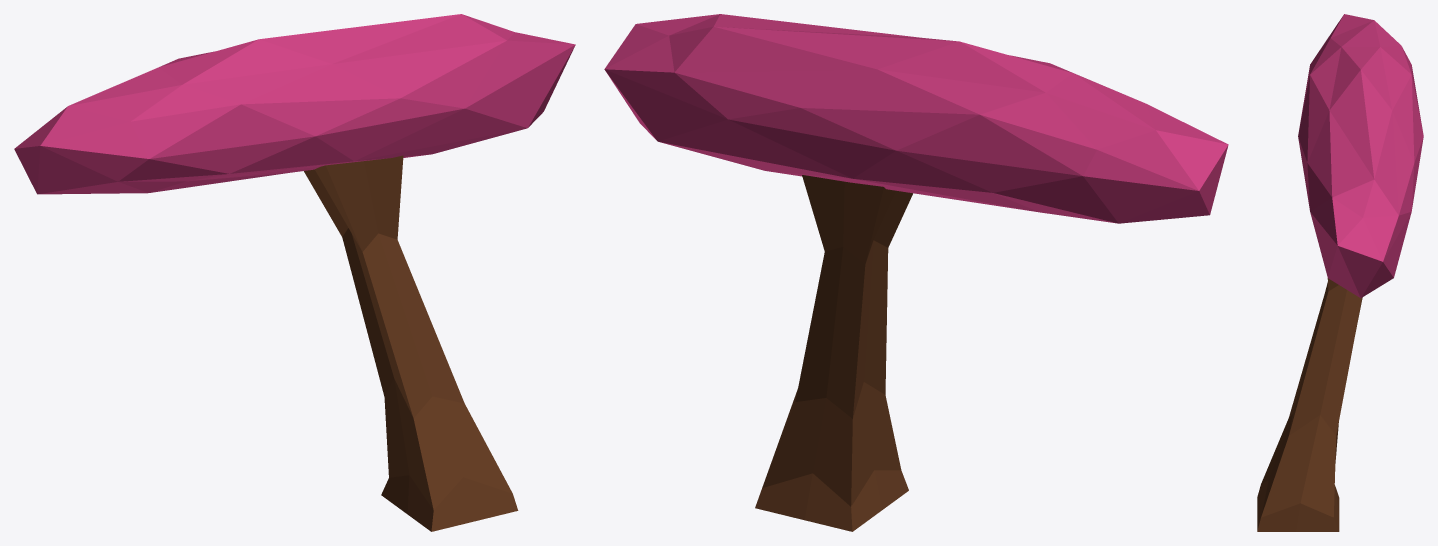
Rendered from Tree_36_Pink.fbx.
3 renders of one model, left to right at view 1: azimuth 30°, elevation 25°; view 2: azimuth 150°, elevation 25°; view 3: azimuth 270°, elevation 25°, orthographic. The views are drawn at different scales.
Parts seen in each view (by area): view 1: Tree_36_Pink_Part_1, Tree_36_Pink_Part_2; view 2: Tree_36_Pink_Part_1, Tree_36_Pink_Part_2; view 3: Tree_36_Pink_Part_1, Tree_36_Pink_Part_2.
Boxes of the visible parts, x1,y1,x2,y2 form: Tree_36_Pink_Part_1: (14,14,575,194); Tree_36_Pink_Part_2: (304,155,518,531); Tree_36_Pink_Part_1: (604,14,1228,223); Tree_36_Pink_Part_2: (755,175,912,531); Tree_36_Pink_Part_1: (1298,14,1423,297); Tree_36_Pink_Part_2: (1257,278,1362,531).
Bounding box in the file's own units: 795 × 675 × 265.
